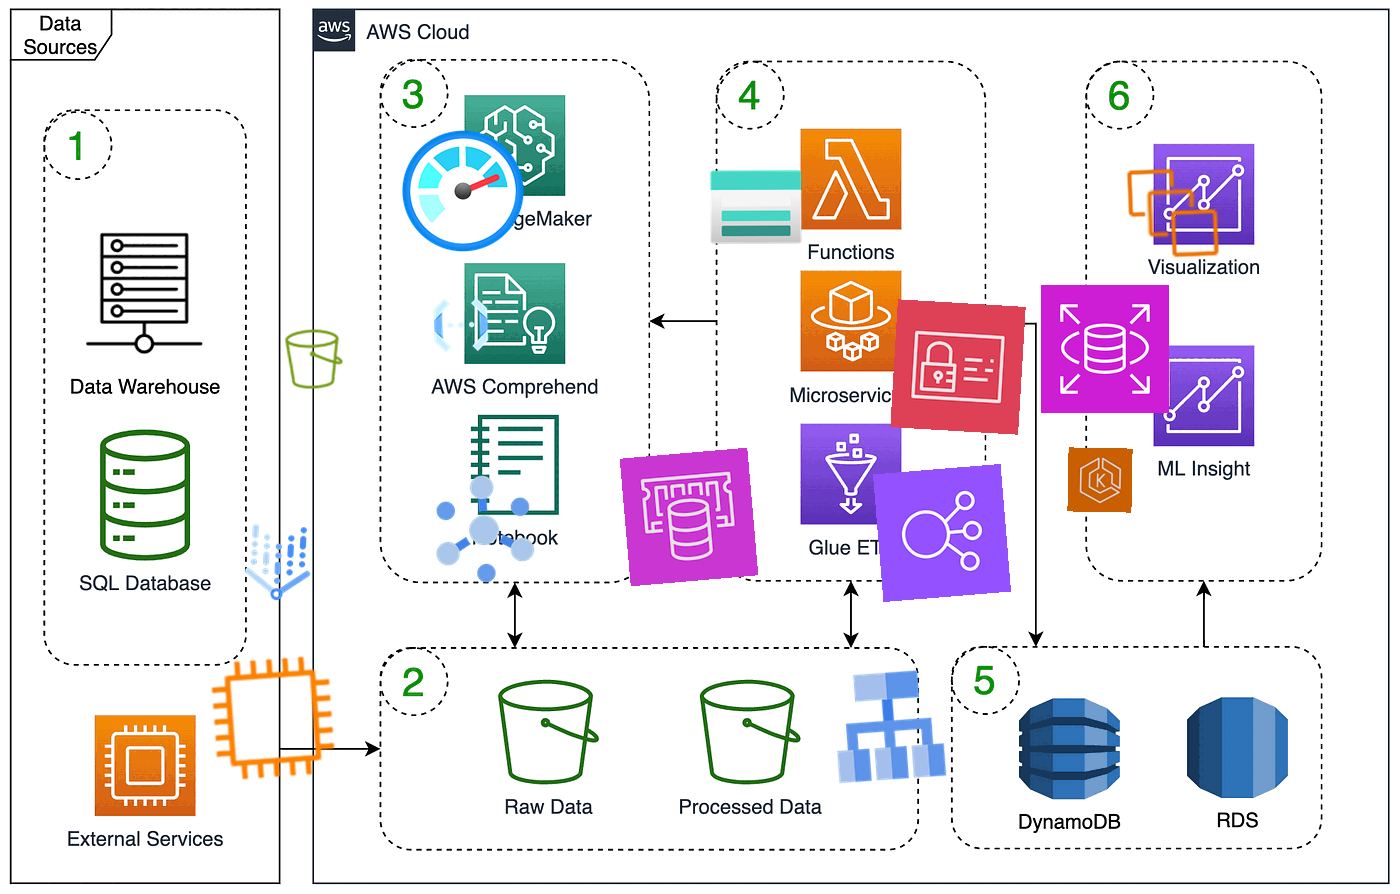aws_amazon_elastic_kubernetes_service: (1067, 447, 1133, 513)
aws_amazon_elasticache: (619, 447, 759, 587)
aws_amazon_rds: (1040, 284, 1170, 414)
aws_ec2_instance: (204, 649, 342, 787)
aws_ec2_instances: (1123, 163, 1223, 263)
aws_elastic_load_balancing: (872, 463, 1012, 603)
aws_identity_and_access_management: (890, 299, 1026, 435)
aws_simple_storage_service_s3_standard: (280, 325, 348, 393)
azure_monitor: (397, 125, 529, 257)
azure_storage_accounts: (707, 158, 805, 256)
gcp_cloud_functions: (427, 291, 495, 359)
gcp_cloud_load_balancing: (820, 657, 958, 795)
gcp_pubsub: (416, 461, 552, 597)
gcp_vertex_ai: (227, 512, 329, 614)
